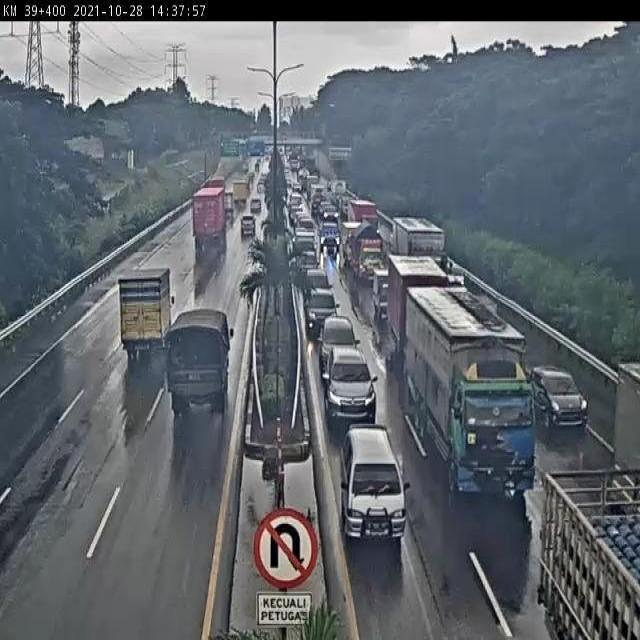big truck: (395, 281, 537, 507), (177, 179, 233, 252)
car: (344, 418, 414, 554), (314, 345, 408, 427), (529, 364, 605, 433), (314, 305, 351, 355), (309, 285, 340, 335), (309, 258, 340, 306), (238, 220, 260, 243), (248, 193, 264, 219)
small bus: (161, 314, 236, 442)
small truck: (102, 258, 186, 382)
